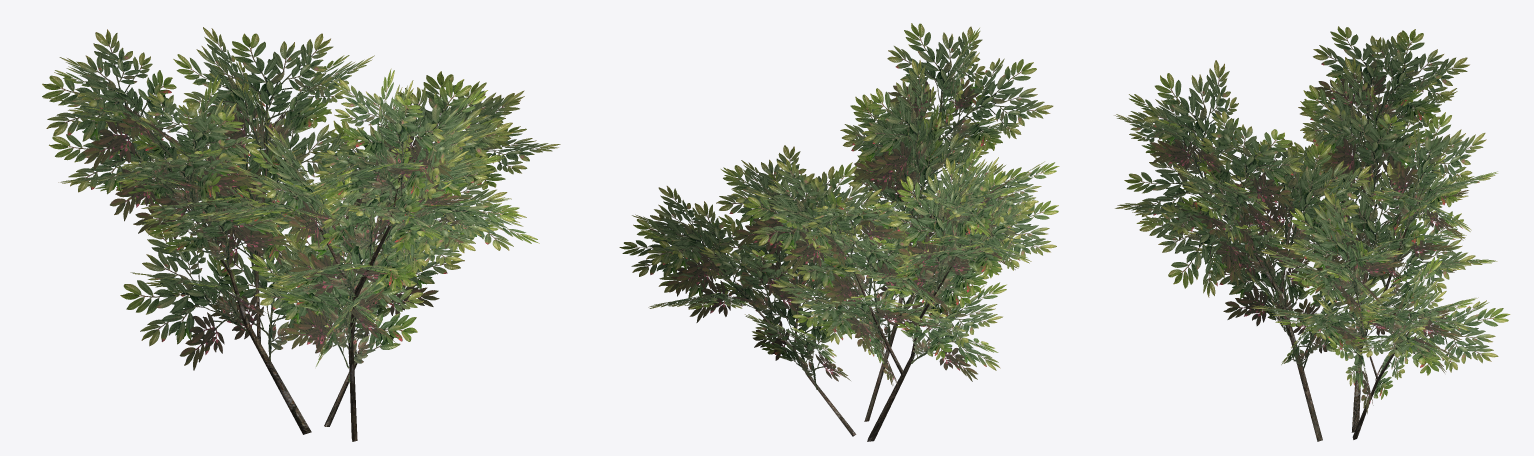
Rendered from tree_guanmu_04.fbx.
3 renders of one model, left to right at view 1: azimuth 30°, elevation 25°; view 2: azimuth 150°, elevation 25°; view 3: azimuth 270°, elevation 25°, orthographic. The views are drawn at different scales.
Visible parts, largest first — view 1: tree_guanmu_04; view 2: tree_guanmu_04; view 3: tree_guanmu_04.
Boxes of the visible parts, box(x1,y1,x2,y2) form: tree_guanmu_04: box(42, 27, 560, 441); tree_guanmu_04: box(619, 23, 1059, 441); tree_guanmu_04: box(1114, 26, 1510, 441).
Bounding box in the file's own units: 1444 × 1151 × 1246.
Materials: 1 (1 with a texture image).
